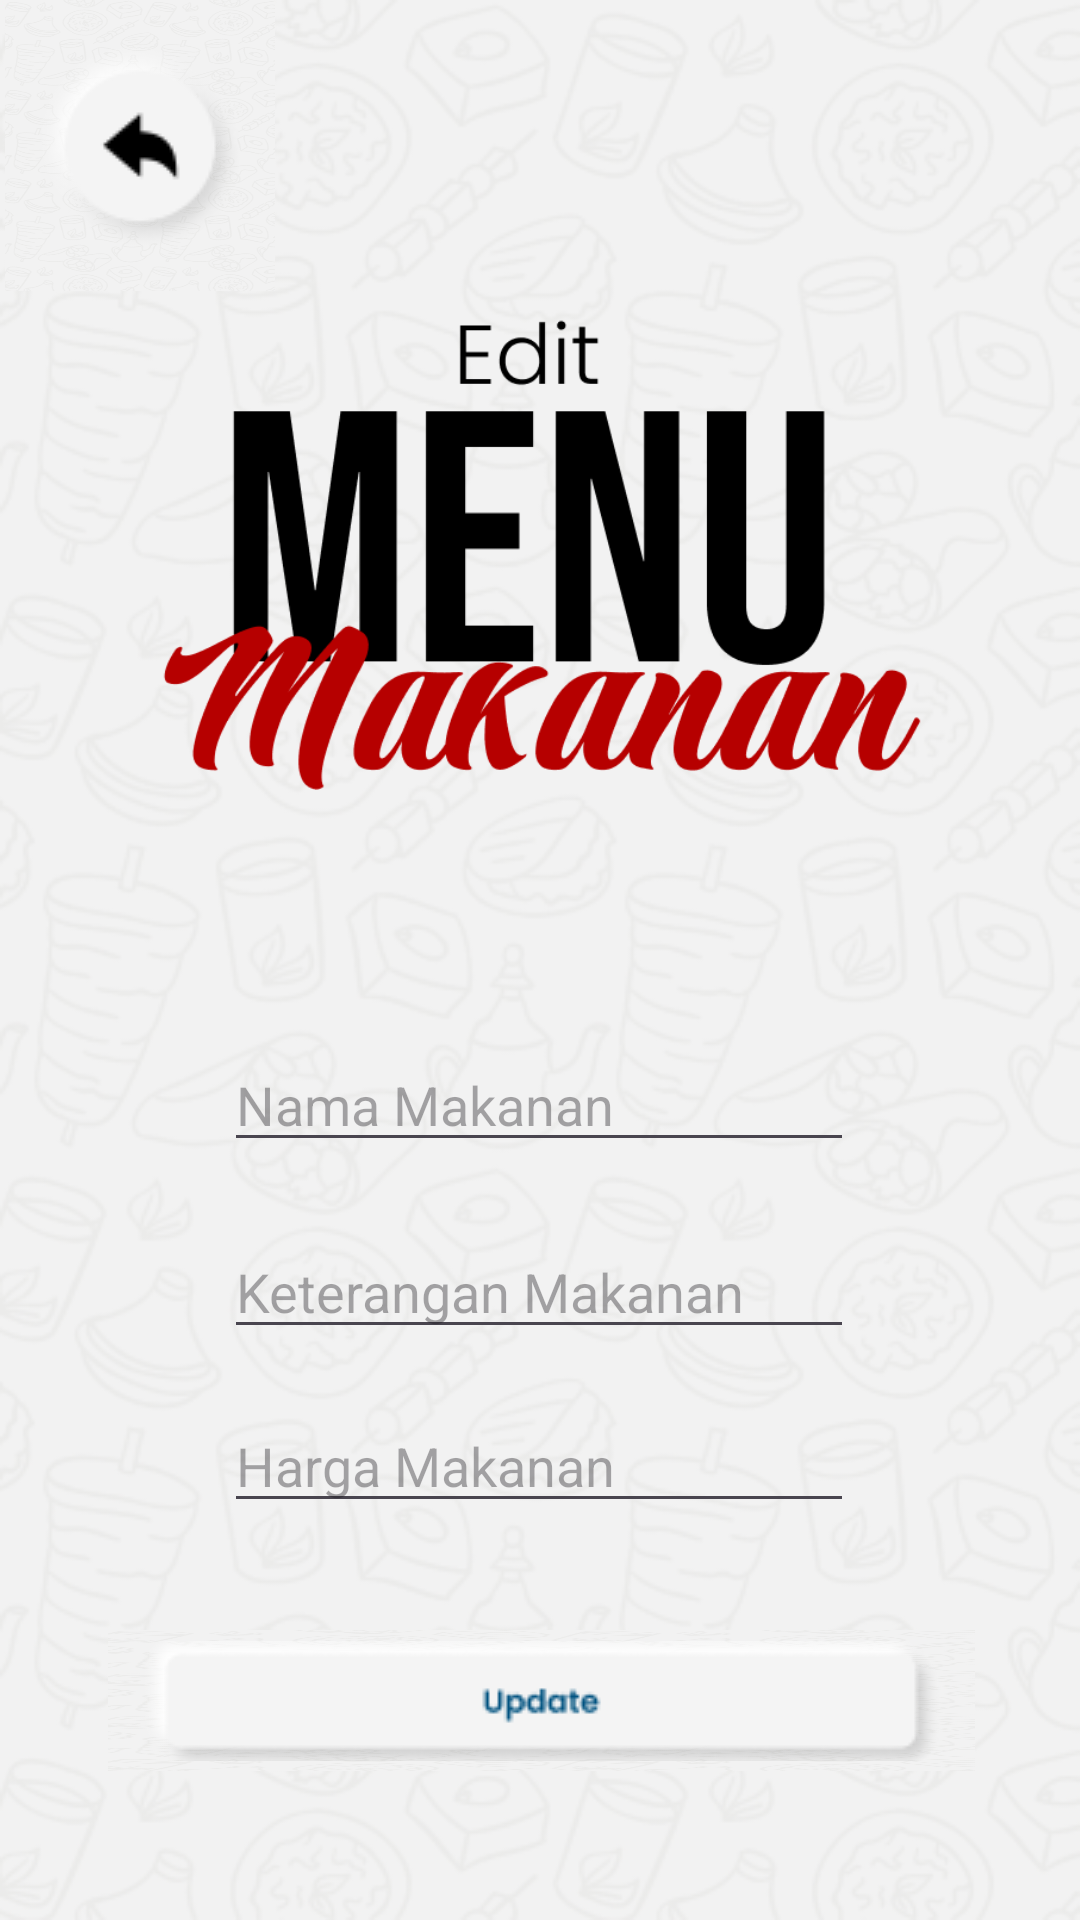

Screen size 1080 x 1920. Icon name, then its center in pixels as (x,y):
buttonkembali: (161,169)
